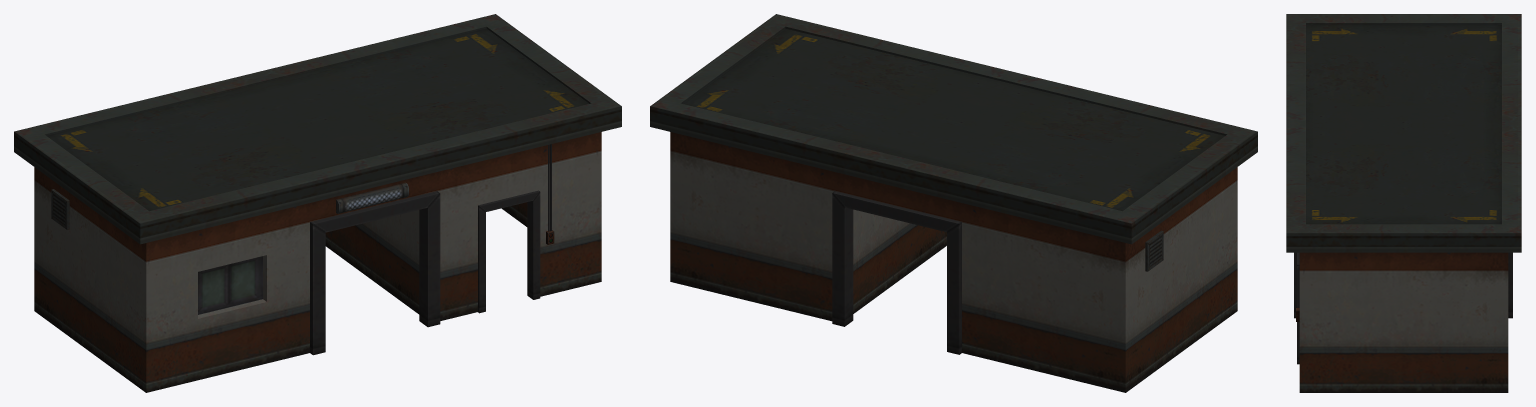
Rendered from Stage-gongchang-fangzi3.FBX.
3 renders of one model, left to right at view 1: azimuth 30°, elevation 25°; view 2: azimuth 150°, elevation 25°; view 3: azimuth 270°, elevation 25°, orthographic. The views are drawn at different scales.
Visible parts, largest first — view 1: Object30; view 2: Object30; view 3: Object30.
Part boxes in pixels (x1,y1,x2,y2): Object30: [14, 14, 621, 392]; Object30: [650, 14, 1257, 392]; Object30: [1286, 14, 1521, 392].
Bounding box in the file's own units: 20.51 × 9.3 × 7.23.
